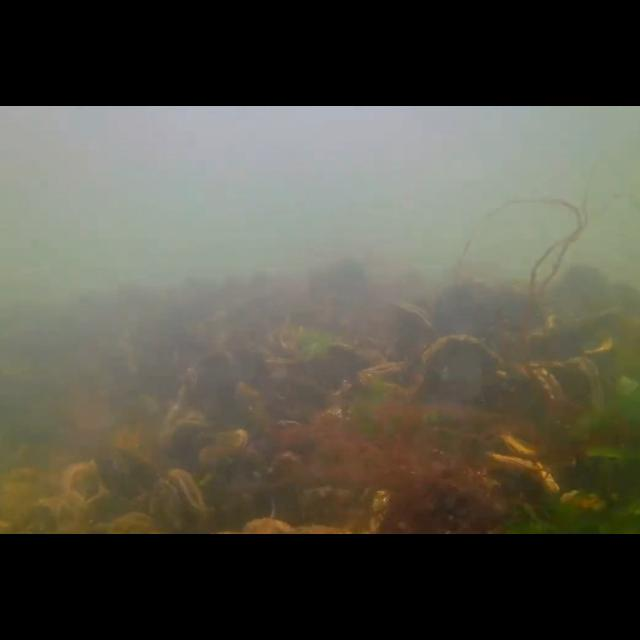Oyster-Closed: (418, 336, 508, 398), (544, 358, 608, 427), (480, 452, 562, 498), (504, 362, 566, 422), (190, 350, 240, 422), (322, 340, 368, 378), (233, 382, 269, 430), (501, 433, 554, 461)
Oyster-Open: (150, 468, 208, 534), (396, 298, 438, 374), (197, 429, 249, 466), (166, 411, 208, 455), (358, 360, 414, 386)
